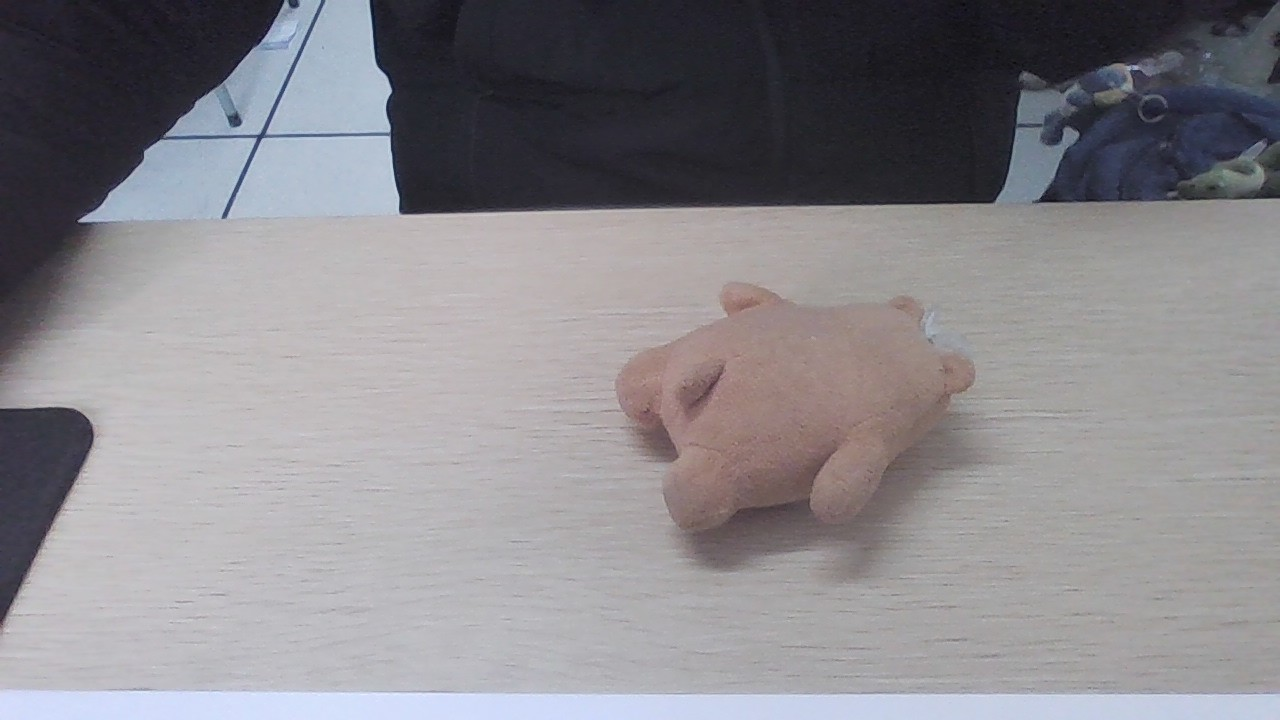KHS-doll: (648, 291, 933, 515)
